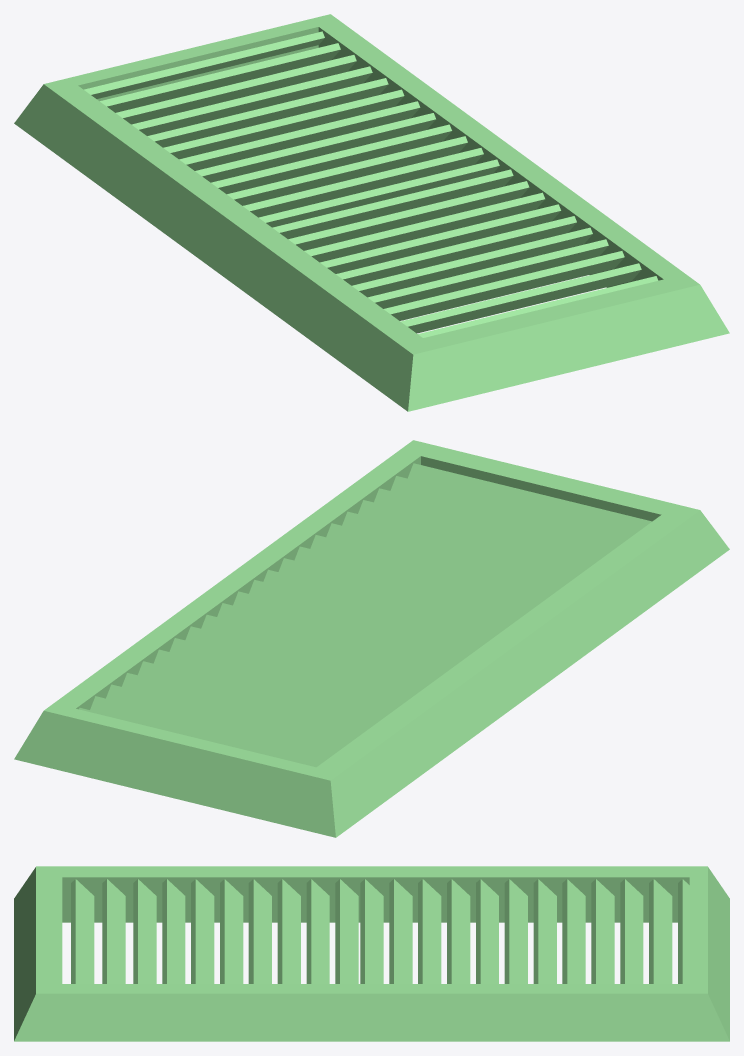
File: EntradaDeAr.fbx
3 views of the same model, one above another, from view 1: azimuth 30°, elevation 25°; view 2: azimuth 150°, elevation 25°; view 3: azimuth 270°, elevation 25° (orthographic). The views are drawn at different scales.
Visible parts, largest first — view 1: EntradaDeAr; view 2: EntradaDeAr; view 3: EntradaDeAr.
Boxes of the visible parts, x1,y1,x2,y2 form: EntradaDeAr: (14,14,729,411); EntradaDeAr: (14,440,729,837); EntradaDeAr: (14,866,729,1041).
Size of the model in its own units: 12.72 by 1.89 by 26.96.
